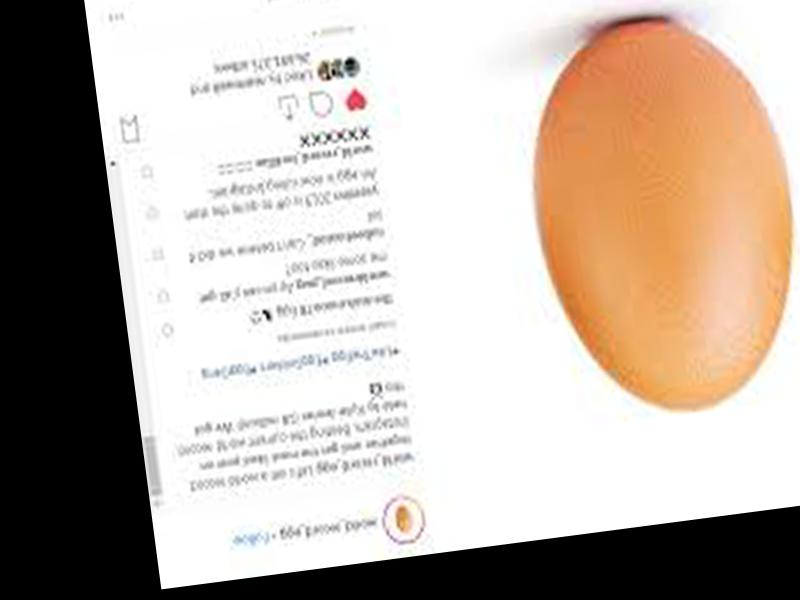Eggs: (514, 8, 800, 425)
